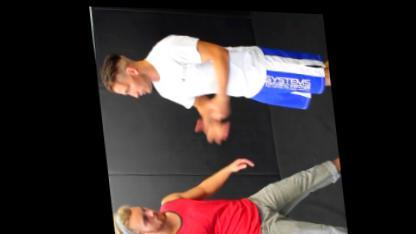knife: (277, 231, 313, 233)
